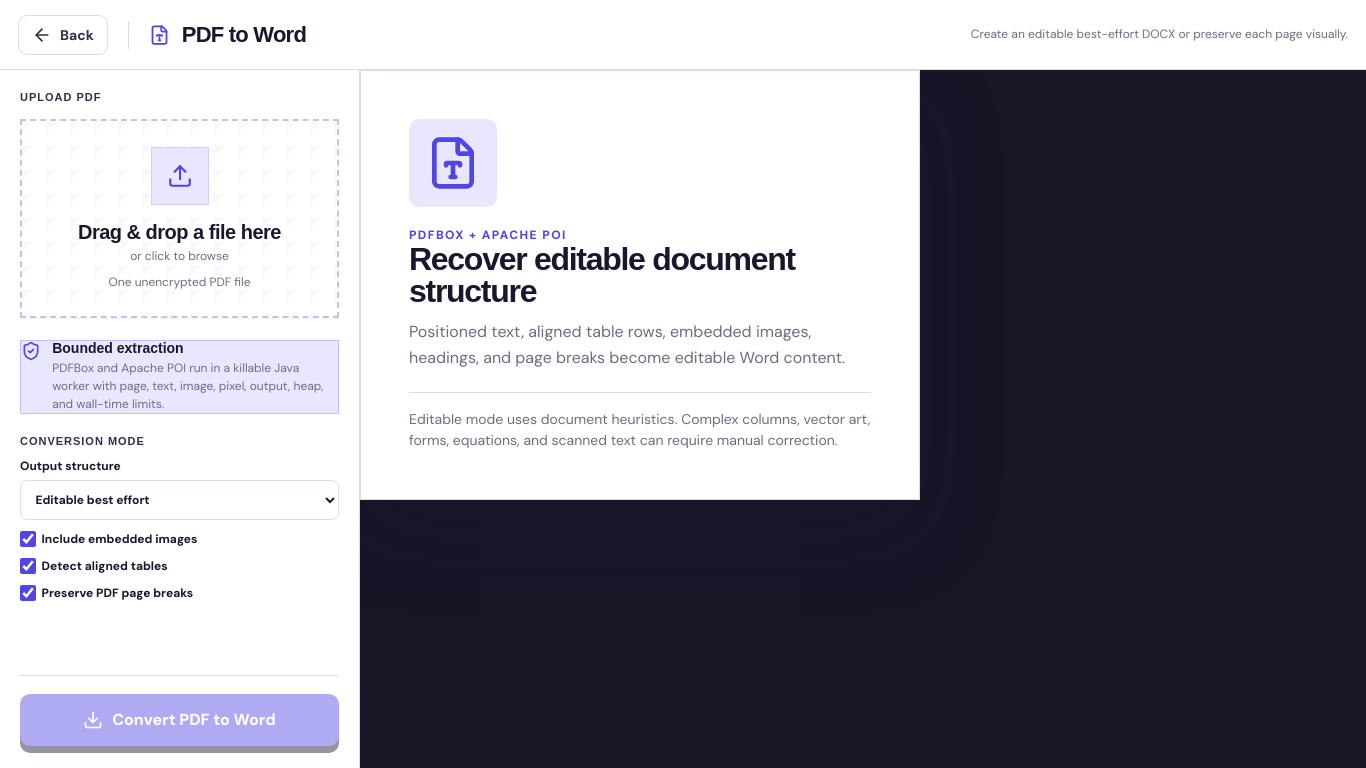
Test case: explains visual mode and removes irrelevant controls
This screenshot has width=1366, height=768.
Select "Visual page images" in the dropdown named "Conversion mode": (180, 500) [20,480,339,520]
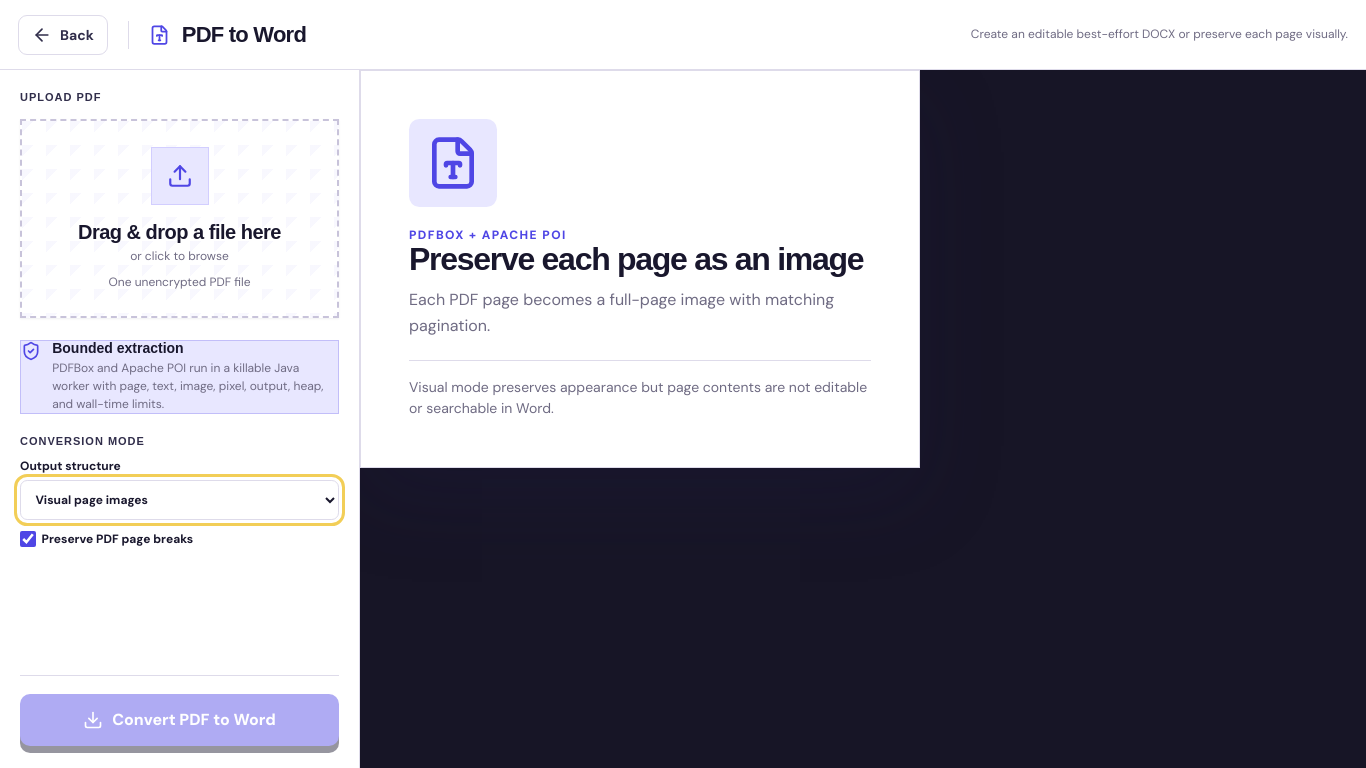
Now the label labelled "Include embedded images" is gone
Now the label labelled "Detect aligned tables" is gone
Now the text "page contents are not editable" is shown, box [409,378,867,417]
